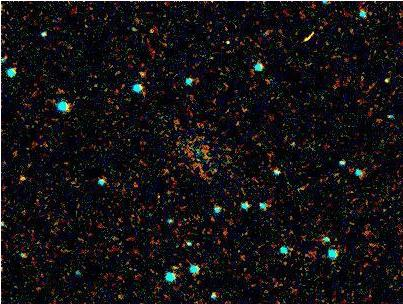star: (7, 165, 37, 195)
